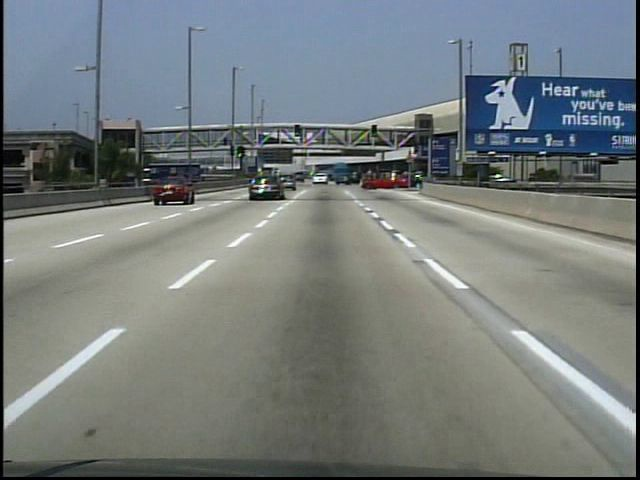person: (223, 137, 228, 149)
